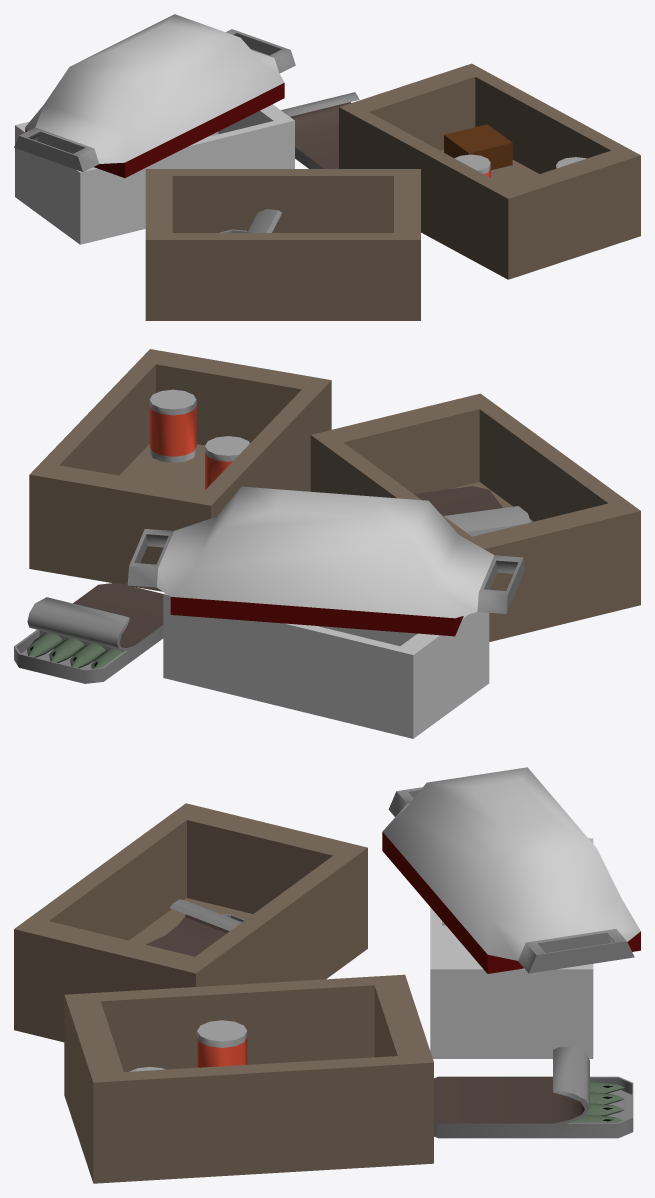
File: Fishgear.glb
The picture shows the model from 3 angles, top to bottom: view 1: azimuth 30°, elevation 25°; view 2: azimuth 150°, elevation 25°; view 3: azimuth 270°, elevation 25°; orthographic projection. The views are drawn at different scales.
Parts seen in each view (by area): view 1: BoxWorms, Locker, HooksCans, Sardines; view 2: Locker, HooksCans, BoxWorms, Sardines; view 3: HooksCans, BoxWorms, Locker, Sardines.
Boxes of the visible parts, box(x1,y1,x2,y2) form: BoxWorms: box(145, 169, 420, 320); Locker: box(14, 14, 295, 244); HooksCans: box(339, 63, 640, 279); Sardines: box(281, 92, 359, 168); Locker: box(127, 486, 524, 738); HooksCans: box(29, 349, 331, 591); BoxWorms: box(310, 393, 640, 641); Sardines: box(14, 582, 163, 683); HooksCans: box(64, 974, 433, 1183); BoxWorms: box(14, 803, 367, 1042); Locker: box(382, 767, 640, 1058); Sardines: box(434, 1047, 633, 1138).
Bounding box in the file's own units: 1.62 × 0.5218 × 1.51.
